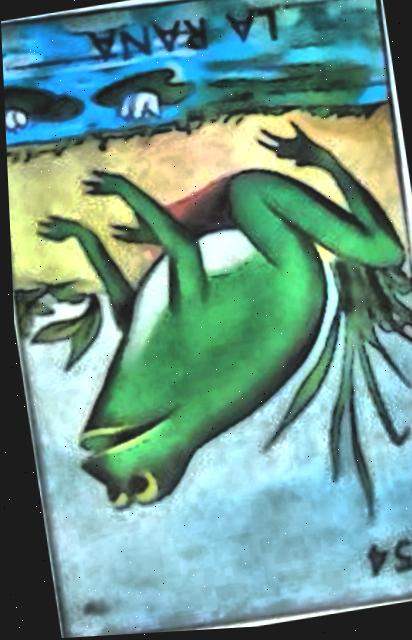La Rana: (1, 0, 412, 638)
